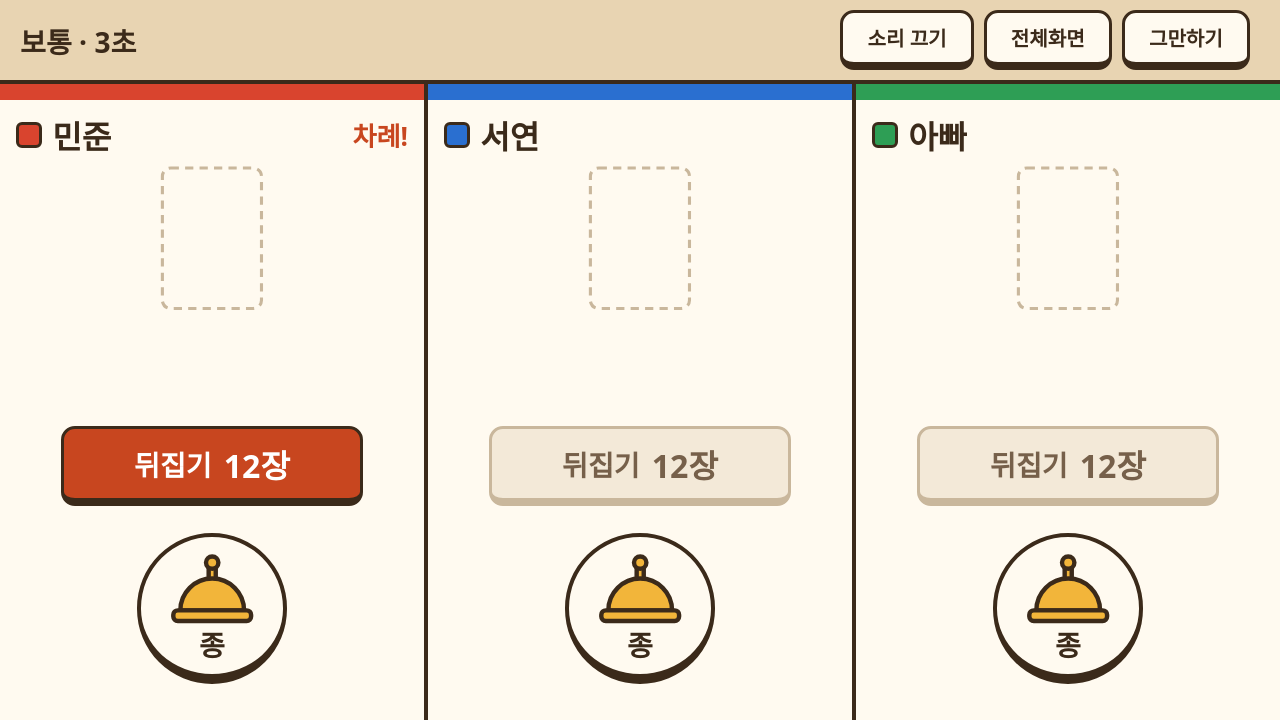
BellMatch › 종에 손가락이 닿아 판정을 기다리는 동안에는 저절로 뒤집지 않고, 판정이 끝나면 뒤집는다
Press the mouse on the 2nd button "종" at x=640, y=609, box left=565, top=533, right=715, bottom=684
Wait 400 ms
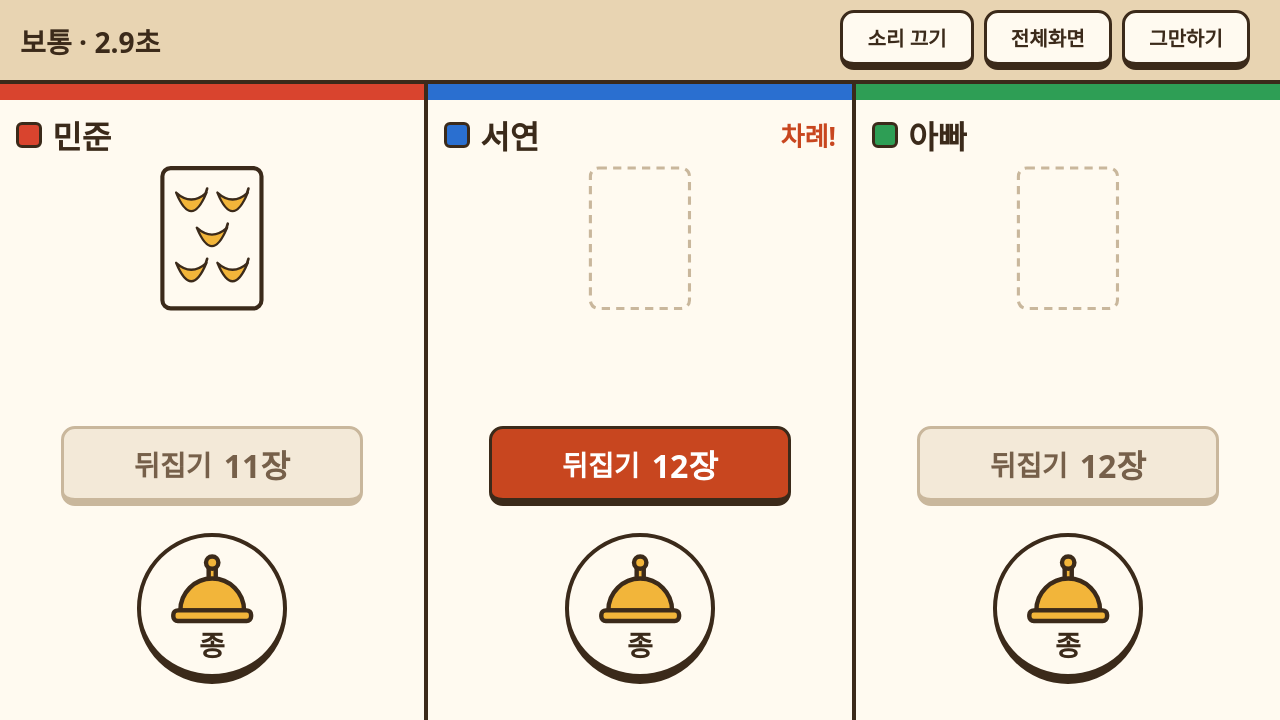
Expected: the icon with test id "fruit-card" is shown, left=16, top=166, right=408, bottom=311
